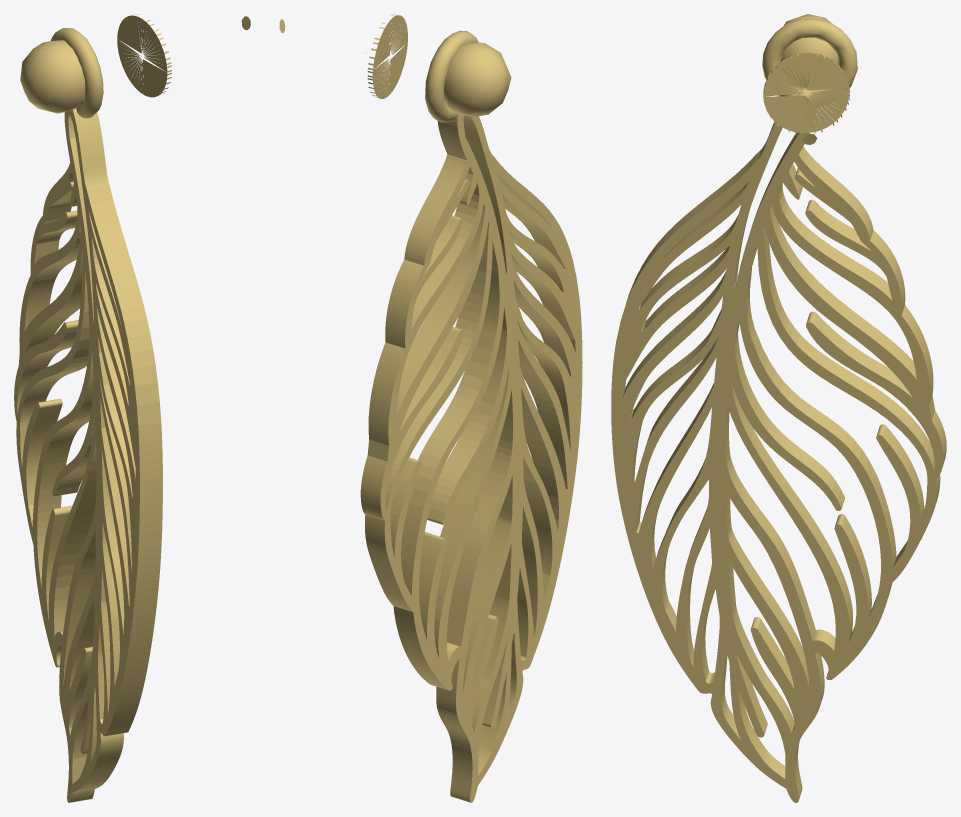
File: earringsSimple2.glb
3 renders of one model, left to right at view 1: azimuth 30°, elevation 25°; view 2: azimuth 150°, elevation 25°; view 3: azimuth 270°, elevation 25°, orthographic.
Parts seen in each view (by area): view 1: Feathers-1, Cylinder; view 2: Feathers-1, Cylinder; view 3: Feathers-1, Cylinder.
Boxes of the visible parts, left/top/right/bottom form: Feathers-1: left=14, top=28, right=162, bottom=802; Cylinder: left=20, top=14, right=250, bottom=113; Feathers-1: left=360, top=30, right=582, bottom=802; Cylinder: left=279, top=14, right=511, bottom=116; Feathers-1: left=611, top=18, right=946, bottom=802; Cylinder: left=763, top=14, right=850, bottom=144.
Bounding box in the file's own units: 0.0195 × 0.064 × 0.025.
